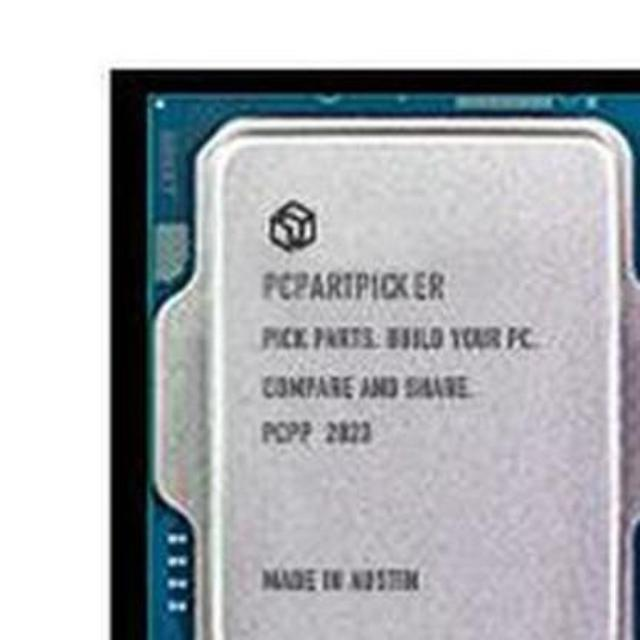CPU: (151, 89, 640, 640)
